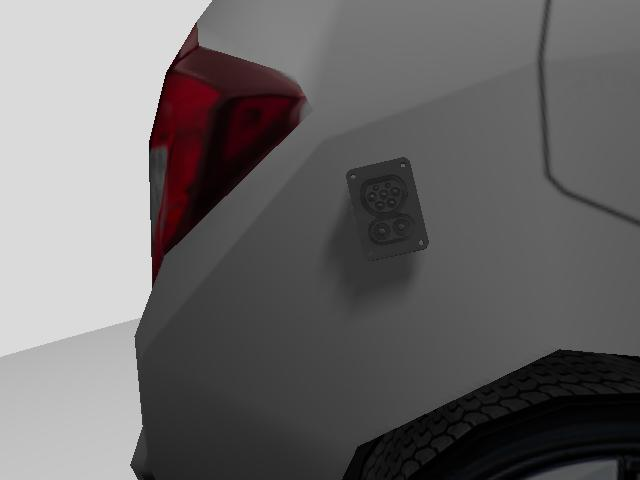EV-socket: (343, 152, 432, 268)
